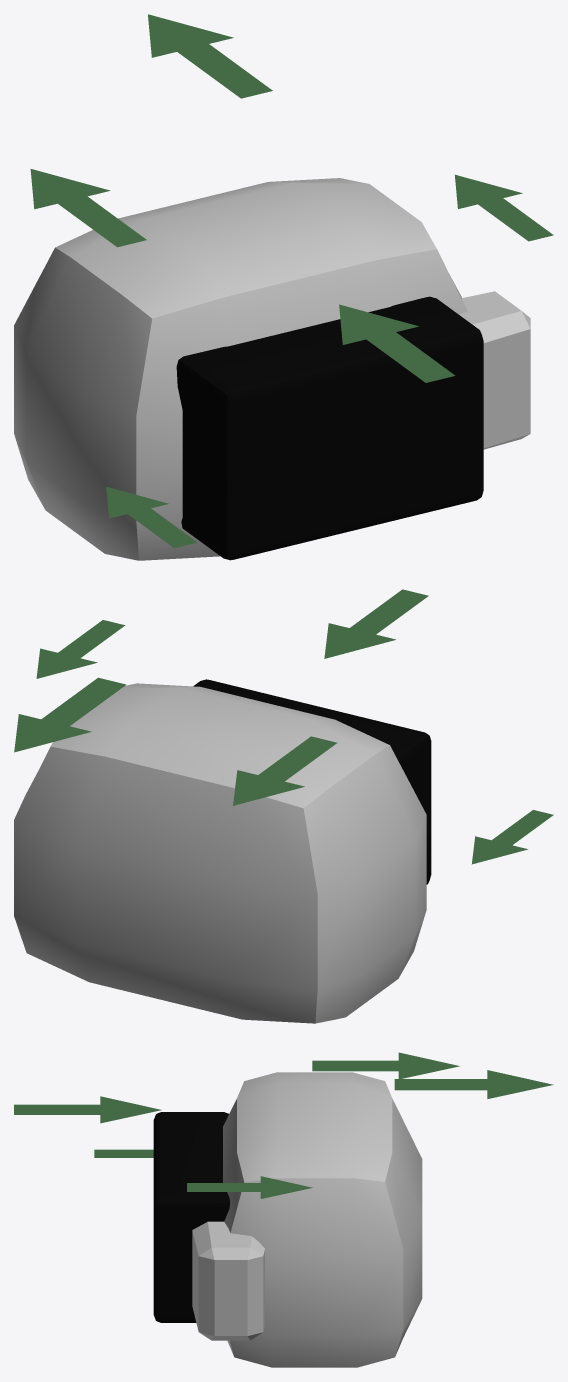
The model's file is Strength Boost Powerup.fbx.
3 renders of one model, top to bottom at view 1: azimuth 30°, elevation 25°; view 2: azimuth 150°, elevation 25°; view 3: azimuth 270°, elevation 25°, orthographic. The views are drawn at different scales.
Visible parts, largest first — view 1: pCube1, pCube2, pCube3, pPlane2, pPlane3, pPlane4, pPlane5, pPlane1; view 2: pCube1, pCube2, pPlane2, pPlane3, pPlane4, pPlane5, pPlane1; view 3: pCube1, pCube2, pCube3, pPlane2, pPlane3, pPlane4, pPlane5, pPlane1.
Part boxes in pixels (<box>): pCube1: <box>14,178,467,560</box>; pCube2: <box>176,296,483,560</box>; pCube3: <box>459,291,530,449</box>; pPlane2: <box>148,14,272,98</box>; pPlane3: <box>30,169,146,247</box>; pPlane4: <box>339,304,455,382</box>; pPlane5: <box>455,174,553,241</box>; pPlane1: <box>106,486,197,548</box>; pCube1: <box>14,683,426,1023</box>; pCube2: <box>193,679,431,884</box>; pPlane2: <box>14,677,126,752</box>; pPlane3: <box>233,736,337,805</box>; pPlane4: <box>324,589,428,658</box>; pPlane5: <box>36,620,124,678</box>; pPlane1: <box>471,810,553,864</box>; pCube1: <box>223,1072,422,1367</box>; pCube2: <box>153,1112,229,1322</box>; pCube3: <box>192,1221,264,1340</box>; pPlane2: <box>394,1070,553,1098</box>; pPlane3: <box>312,1052,459,1078</box>; pPlane4: <box>14,1096,161,1123</box>; pPlane5: <box>187,1176,312,1198</box>; pPlane1: <box>94,1149,153,1157</box>.
Size of the model in its own units: 3.93 by 2.82 by 5.26.
